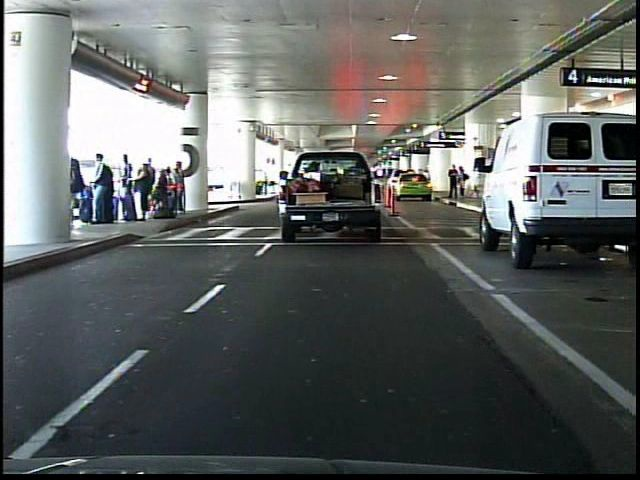person: (446, 165, 459, 201), (458, 165, 470, 203)
